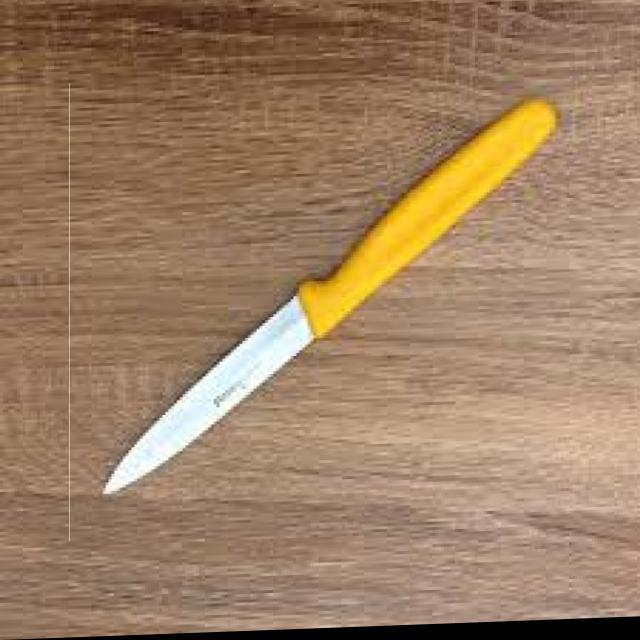knife: (100, 93, 561, 502)
